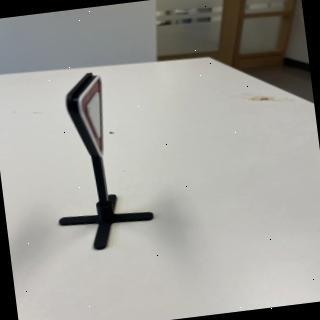sign_yield: (63, 75, 132, 164)
